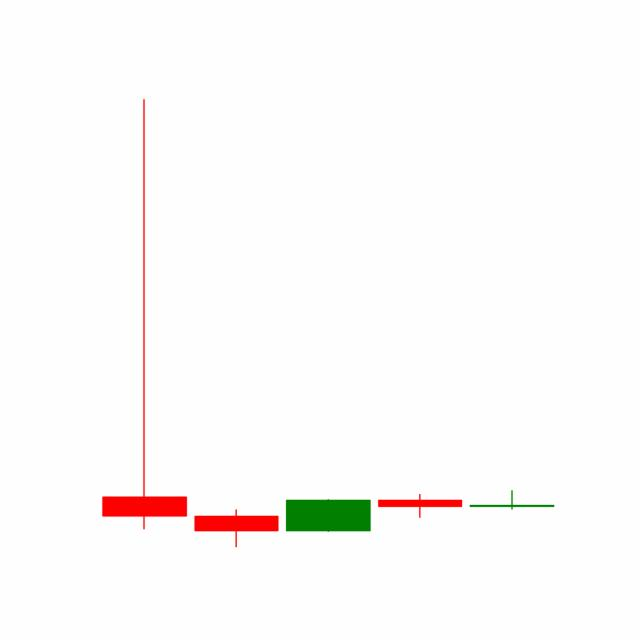Gravestone Doji: (464, 489, 558, 510)
